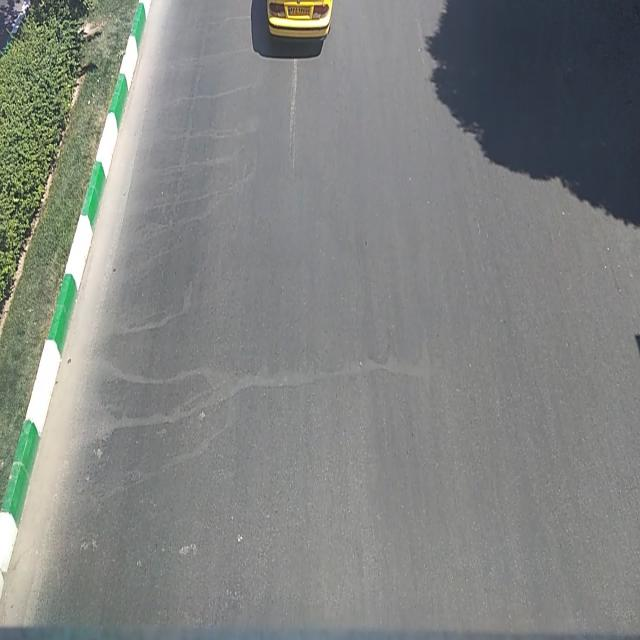car: (266, 3, 334, 38)
